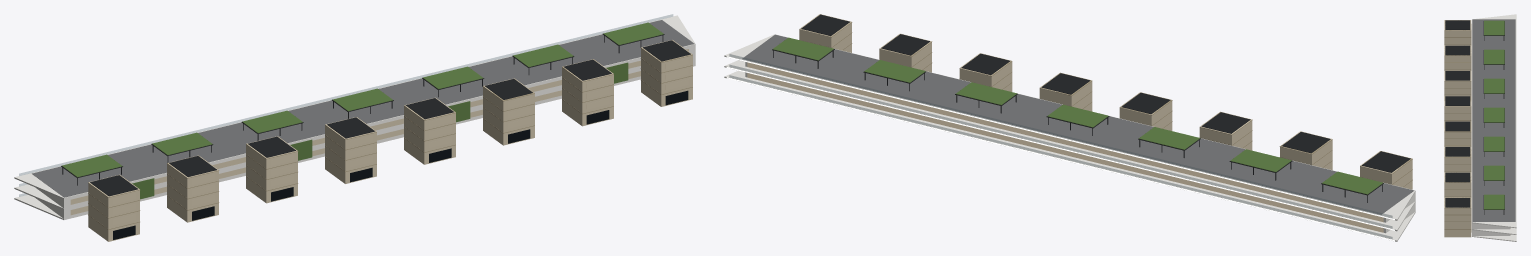
Rendered from jed_pit_upper.glb.
3 views of the same model, side by side, from view 1: azimuth 30°, elevation 25°; view 2: azimuth 150°, elevation 25°; view 3: azimuth 270°, elevation 25° (orthographic). The views are drawn at different scales.
Parts seen in each view (by area): view 1: jeddah-pit-building; view 2: jeddah-pit-building; view 3: jeddah-pit-building.
Boxes of the visible parts, bbox=[...] form: jeddah-pit-building: bbox=[14, 14, 695, 241]; jeddah-pit-building: bbox=[724, 14, 1415, 241]; jeddah-pit-building: bbox=[1444, 14, 1516, 241].
Size of the model in its own units: 294 by 19.1 by 42.12.
